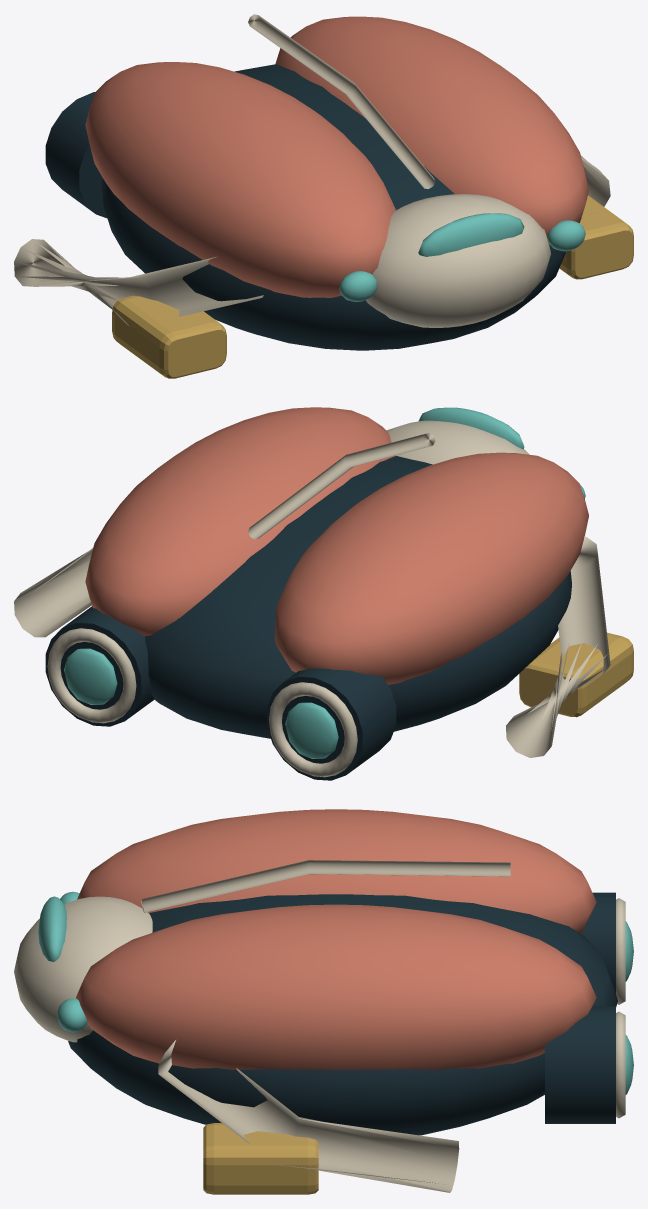
The model's file is alien-beetle.glb.
3 views of the same model, one above another, from view 1: azimuth 30°, elevation 25°; view 2: azimuth 150°, elevation 25°; view 3: azimuth 270°, elevation 25° (orthographic). The views are drawn at different scales.
Visible parts, largest first — view 1: shell, emission; view 2: shell, emission; view 3: shell, emission.
Part boxes in pixels (x1,y1,x2,y2): shell: [14, 14, 633, 378]; emission: [339, 213, 585, 301]; shell: [14, 407, 633, 780]; emission: [64, 407, 585, 758]; shell: [14, 809, 625, 1194]; emission: [38, 891, 633, 1094].
Size of the model in its own units: 2.43 by 1.02 by 2.31.
